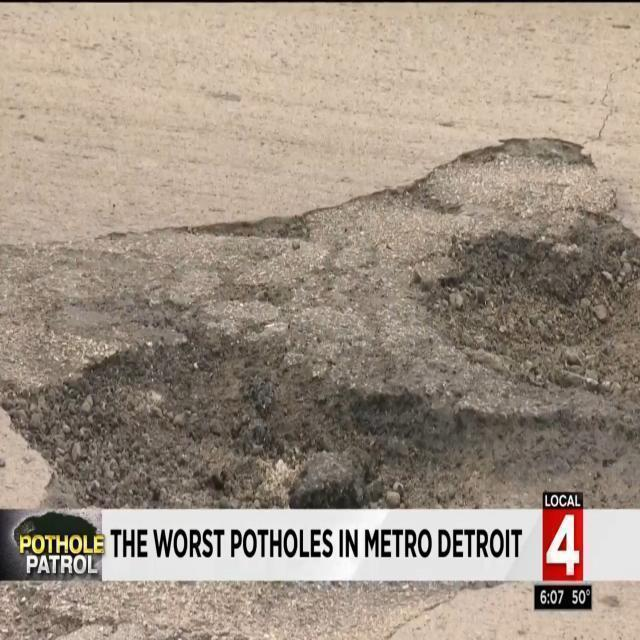Pothole: (0, 320, 640, 509), (408, 201, 640, 404)
